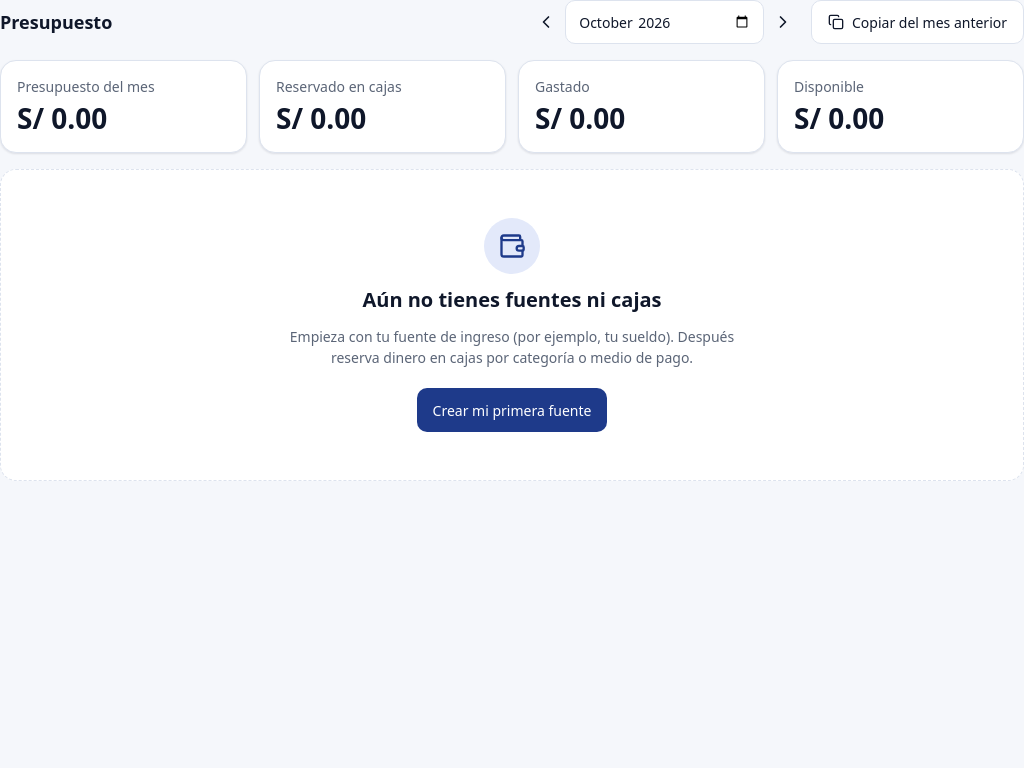
Test: Presupuesto · resumen del mes (F3) › sin fuentes ni cajas invita a crear la primera fuente
Click the button "Crear mi primera fuente" at (512, 410), box [417,388,607,432]
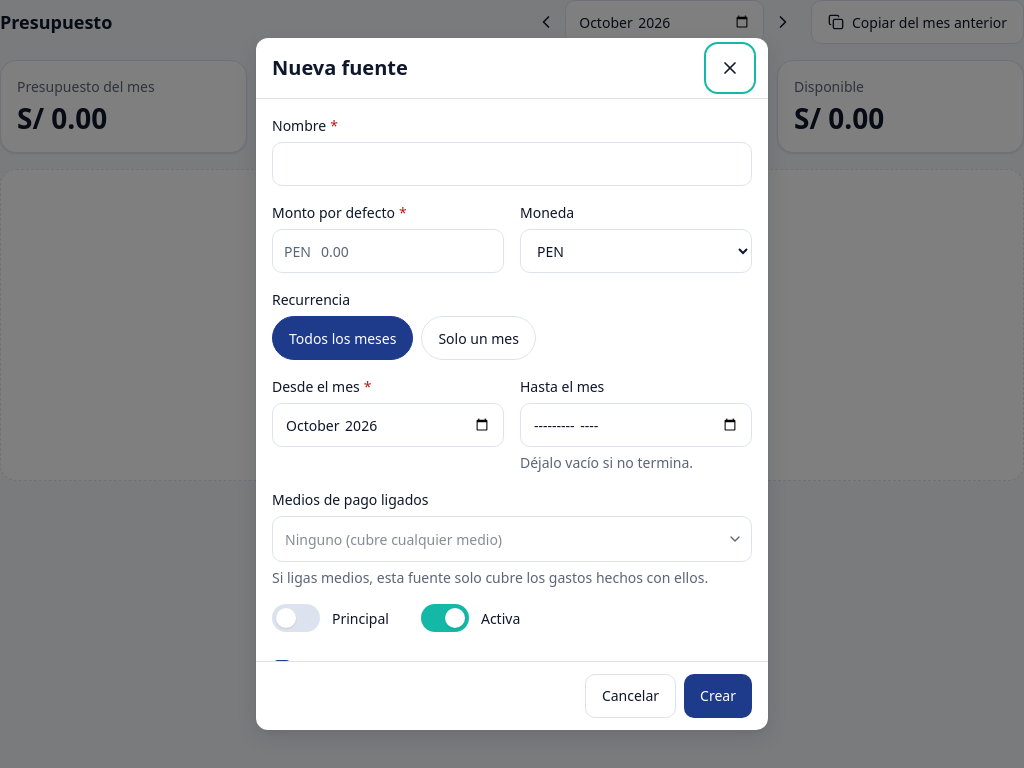
Expected: the dialog "Nueva fuente" is shown, [256,38,768,730]
